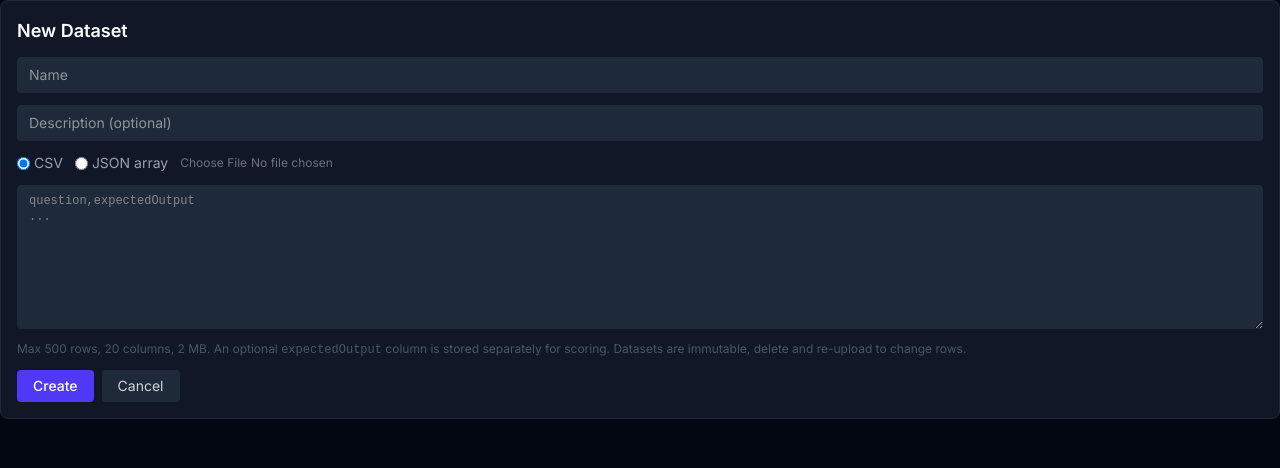
Test case: DatasetUpload › requires data before sending anything
Type "Support tickets" into the field with placeholder "Name". click: (640, 75)
box: 17,57 -> 1263,93
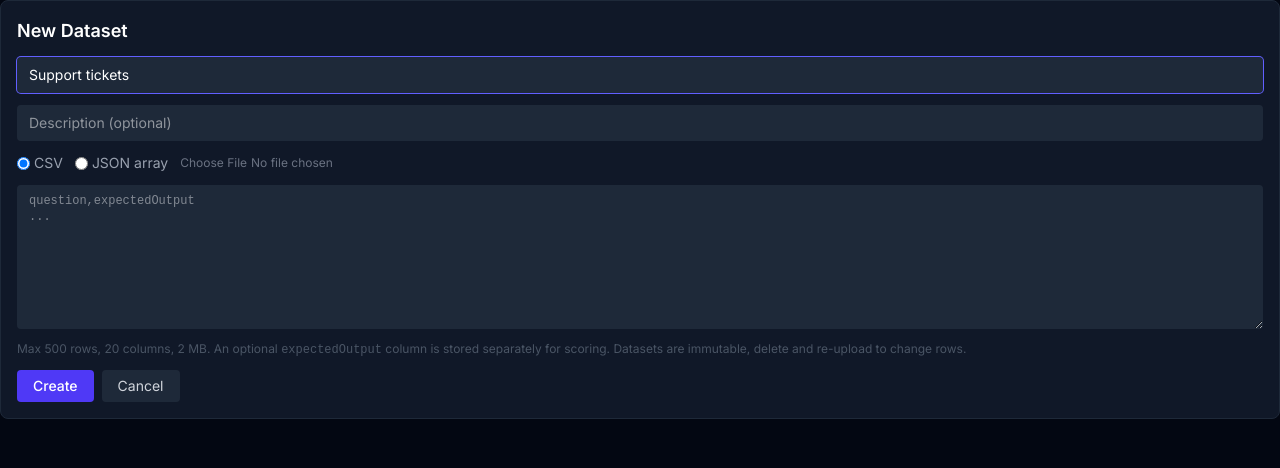
Click the button "Create". click: (55, 386)
box: 17,370 -> 94,402
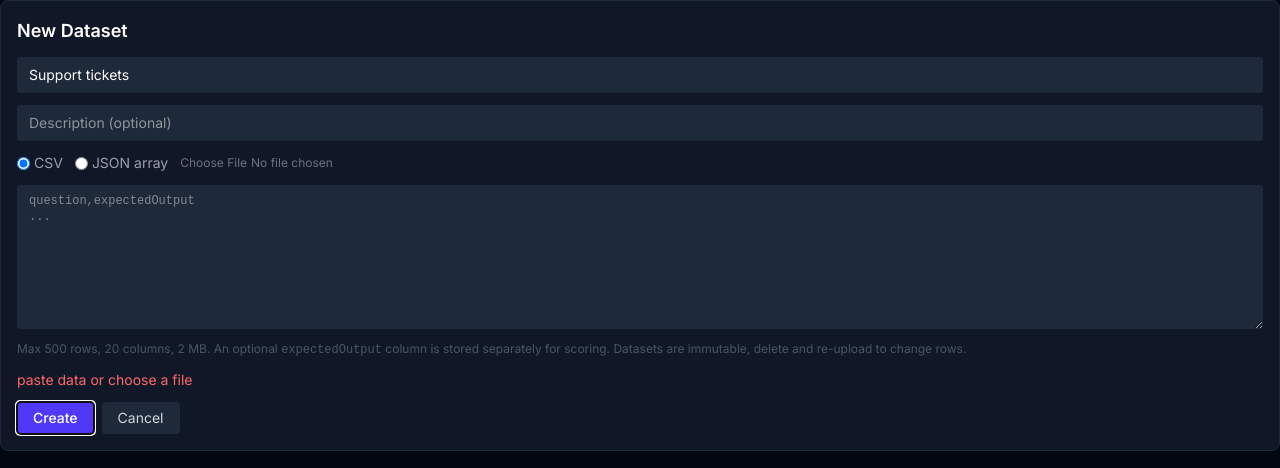
Check: the text "paste data or choose a file" is shown, box 17,371 -> 192,388
